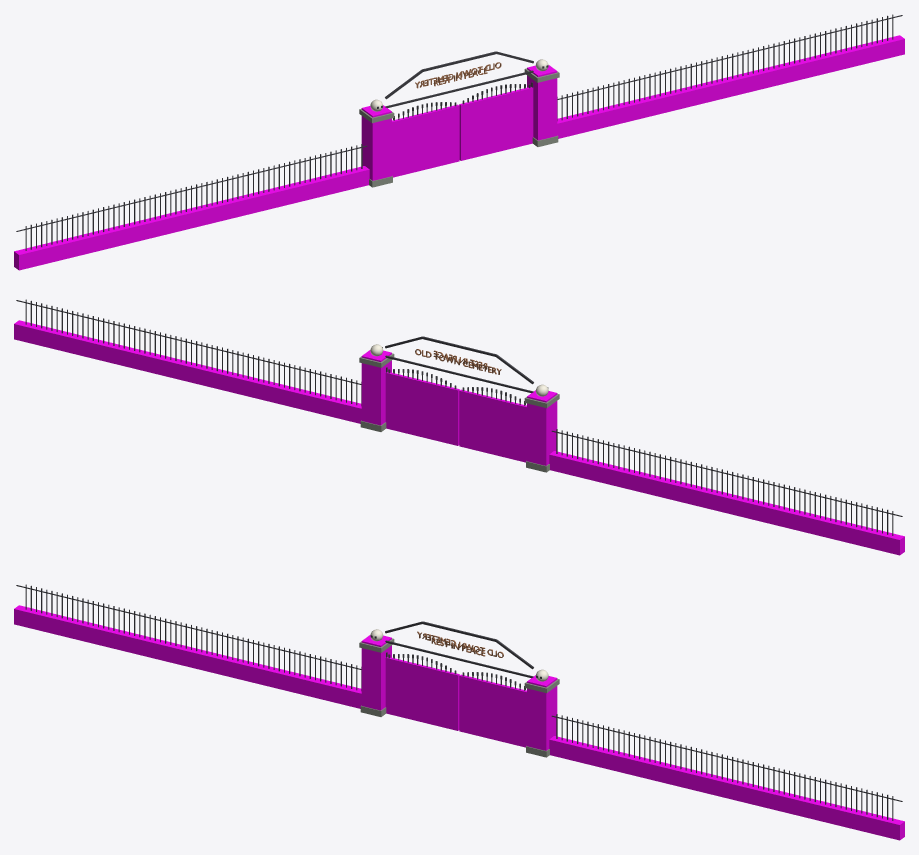
Rendered from cemetery_gate.glb.
3 views of the same model, one above another, from view 1: azimuth 30°, elevation 25°; view 2: azimuth 150°, elevation 25°; view 3: azimuth 330°, elevation 25° (orthographic).
Visible parts, largest first — view 1: COL_Fence_Wall_-1_0, COL_Fence_Wall_1_0, COL_Gate_L, COL_Gate_R, Fence_Bars_-1, Fence_Bars_1, COL_Pillar_-1, COL_Pillar_1, Gate_Arch; view 2: COL_Fence_Wall_-1_0, COL_Fence_Wall_1_0, COL_Gate_L, COL_Gate_R, Fence_Bars_-1, Fence_Bars_1, COL_Pillar_-1, COL_Pillar_1, Gate_Arch; view 3: COL_Fence_Wall_1_0, COL_Fence_Wall_-1_0, COL_Gate_R, COL_Gate_L, Fence_Bars_1, Fence_Bars_-1, COL_Pillar_1, COL_Pillar_-1, Gate_Arch.
Part boxes in pixels (x1,y1,x2,y2): COL_Fence_Wall_-1_0: (14, 166, 369, 270); COL_Fence_Wall_1_0: (557, 35, 904, 138); COL_Gate_L: (459, 87, 533, 160); COL_Gate_R: (392, 104, 459, 177); Fence_Bars_-1: (16, 144, 367, 250); Fence_Bars_1: (557, 14, 902, 120); COL_Pillar_-1: (361, 105, 391, 180); COL_Pillar_1: (527, 65, 557, 140); Gate_Arch: (385, 51, 533, 107); COL_Fence_Wall_-1_0: (549, 451, 904, 555); COL_Fence_Wall_1_0: (14, 320, 361, 423); COL_Gate_L: (385, 372, 459, 445); COL_Gate_R: (459, 389, 526, 462); Fence_Bars_-1: (551, 429, 902, 535); Fence_Bars_1: (16, 299, 361, 405); COL_Pillar_-1: (527, 390, 557, 465); COL_Pillar_1: (361, 350, 391, 425); Gate_Arch: (385, 336, 533, 392); COL_Fence_Wall_1_0: (549, 736, 904, 840); COL_Fence_Wall_-1_0: (14, 605, 361, 708); COL_Gate_R: (385, 657, 459, 730); COL_Gate_L: (459, 674, 526, 747); Fence_Bars_1: (551, 714, 902, 820); Fence_Bars_-1: (16, 584, 361, 690); COL_Pillar_1: (527, 675, 557, 750); COL_Pillar_-1: (361, 635, 391, 710); Gate_Arch: (385, 621, 533, 677).
Size of the model in its own units: 60 by 6.46 by 1.5.
